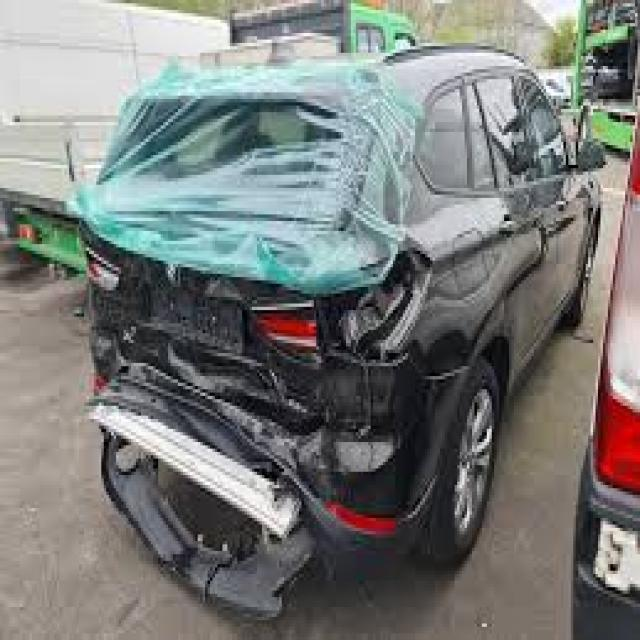damaged-trunk: (89, 92, 343, 420)
